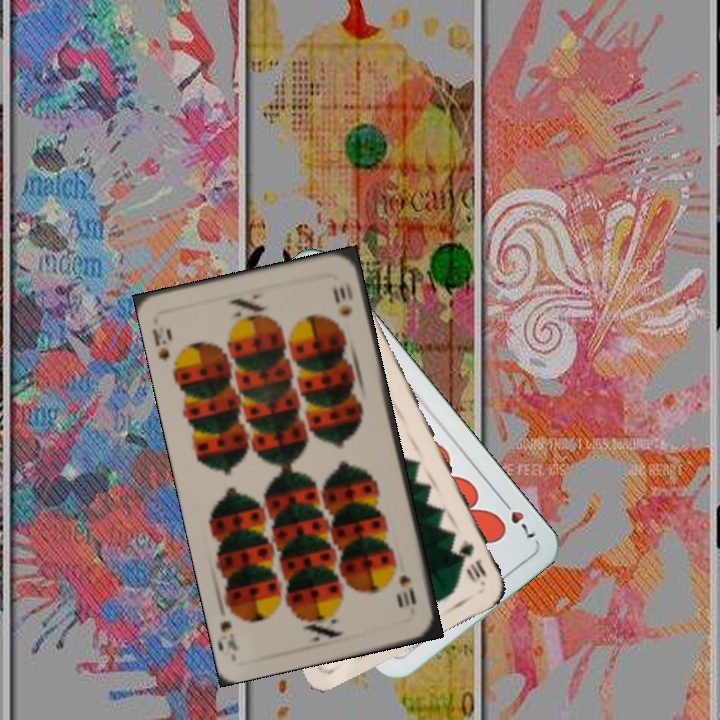G10: (455, 535, 490, 586)
H7: (496, 494, 539, 541)
S10: (148, 324, 172, 365), (395, 571, 419, 609)
